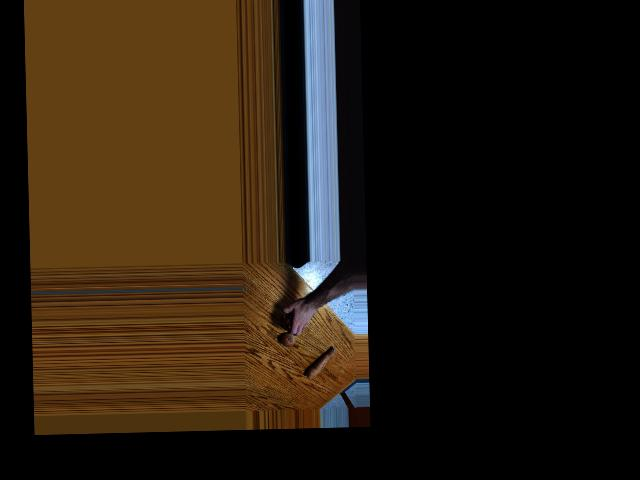onion: (278, 330, 295, 346)
